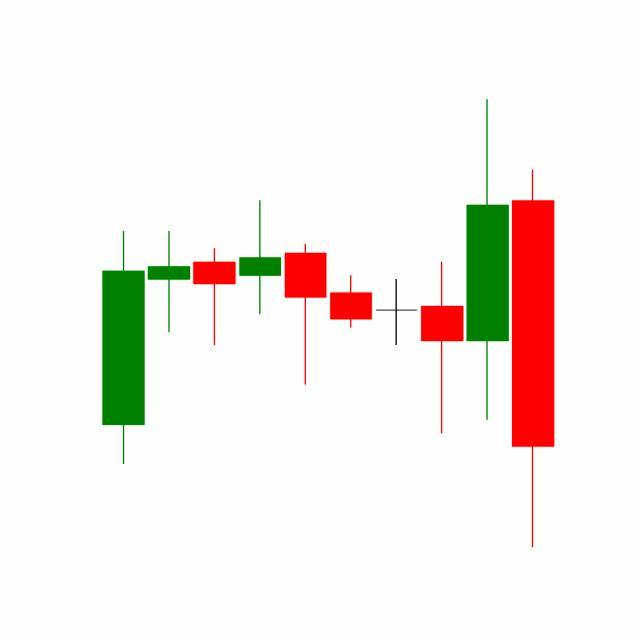Hikkake Pattern: (283, 100, 512, 439)
